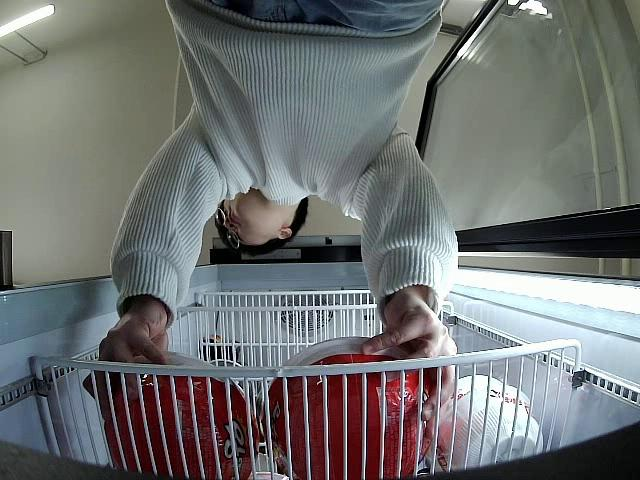00_hand: (361, 297, 459, 435), (82, 318, 171, 397)
10_wangTtukkeong: (262, 335, 435, 480), (104, 351, 257, 480)
